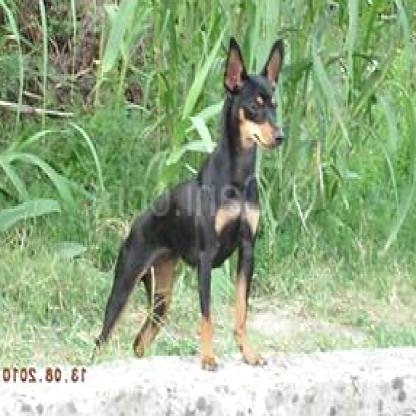dog: (84, 33, 288, 369)
